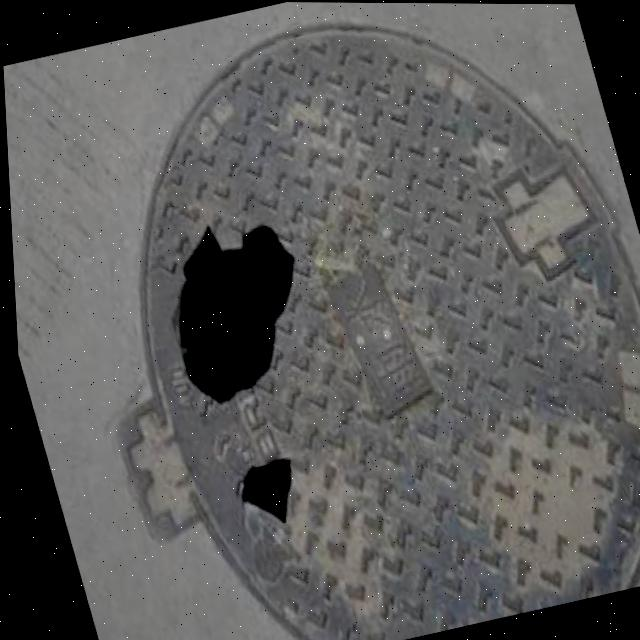manhole: (48, 0, 640, 640)
